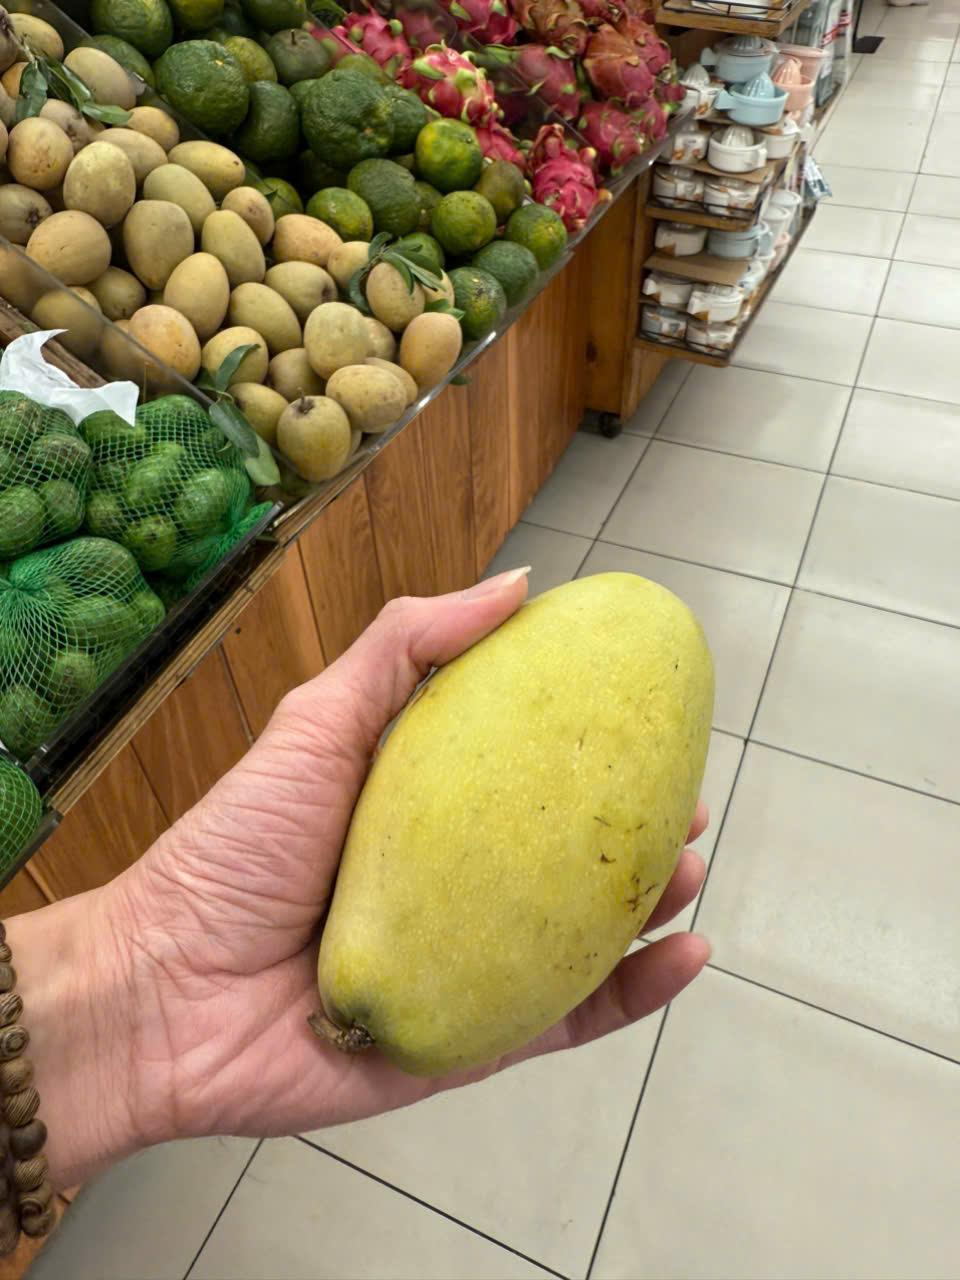mango: (318, 565, 726, 1077)
